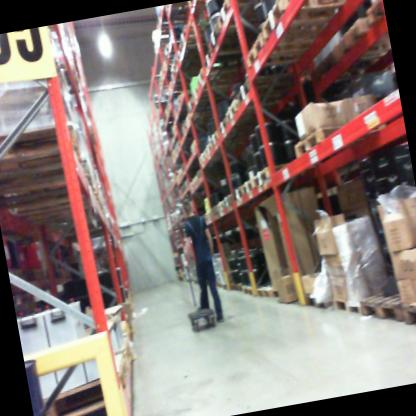pallet: (28, 351, 136, 416), (0, 118, 85, 191), (0, 154, 100, 215), (312, 14, 394, 88), (292, 110, 393, 166), (239, 22, 334, 76), (254, 0, 356, 47), (202, 15, 281, 66), (191, 45, 273, 89), (214, 105, 294, 143), (357, 278, 407, 337), (232, 70, 304, 110), (247, 153, 317, 192), (223, 87, 293, 125), (207, 0, 276, 37), (93, 329, 141, 381), (74, 300, 139, 326), (176, 19, 220, 47), (154, 1, 201, 27), (361, 0, 388, 41), (303, 285, 336, 313), (331, 290, 362, 316), (229, 182, 258, 208), (400, 294, 416, 338), (224, 277, 247, 303), (251, 278, 269, 305), (239, 176, 255, 198), (267, 284, 285, 302), (242, 282, 258, 302), (202, 140, 214, 163), (208, 129, 221, 149), (220, 192, 232, 212)
